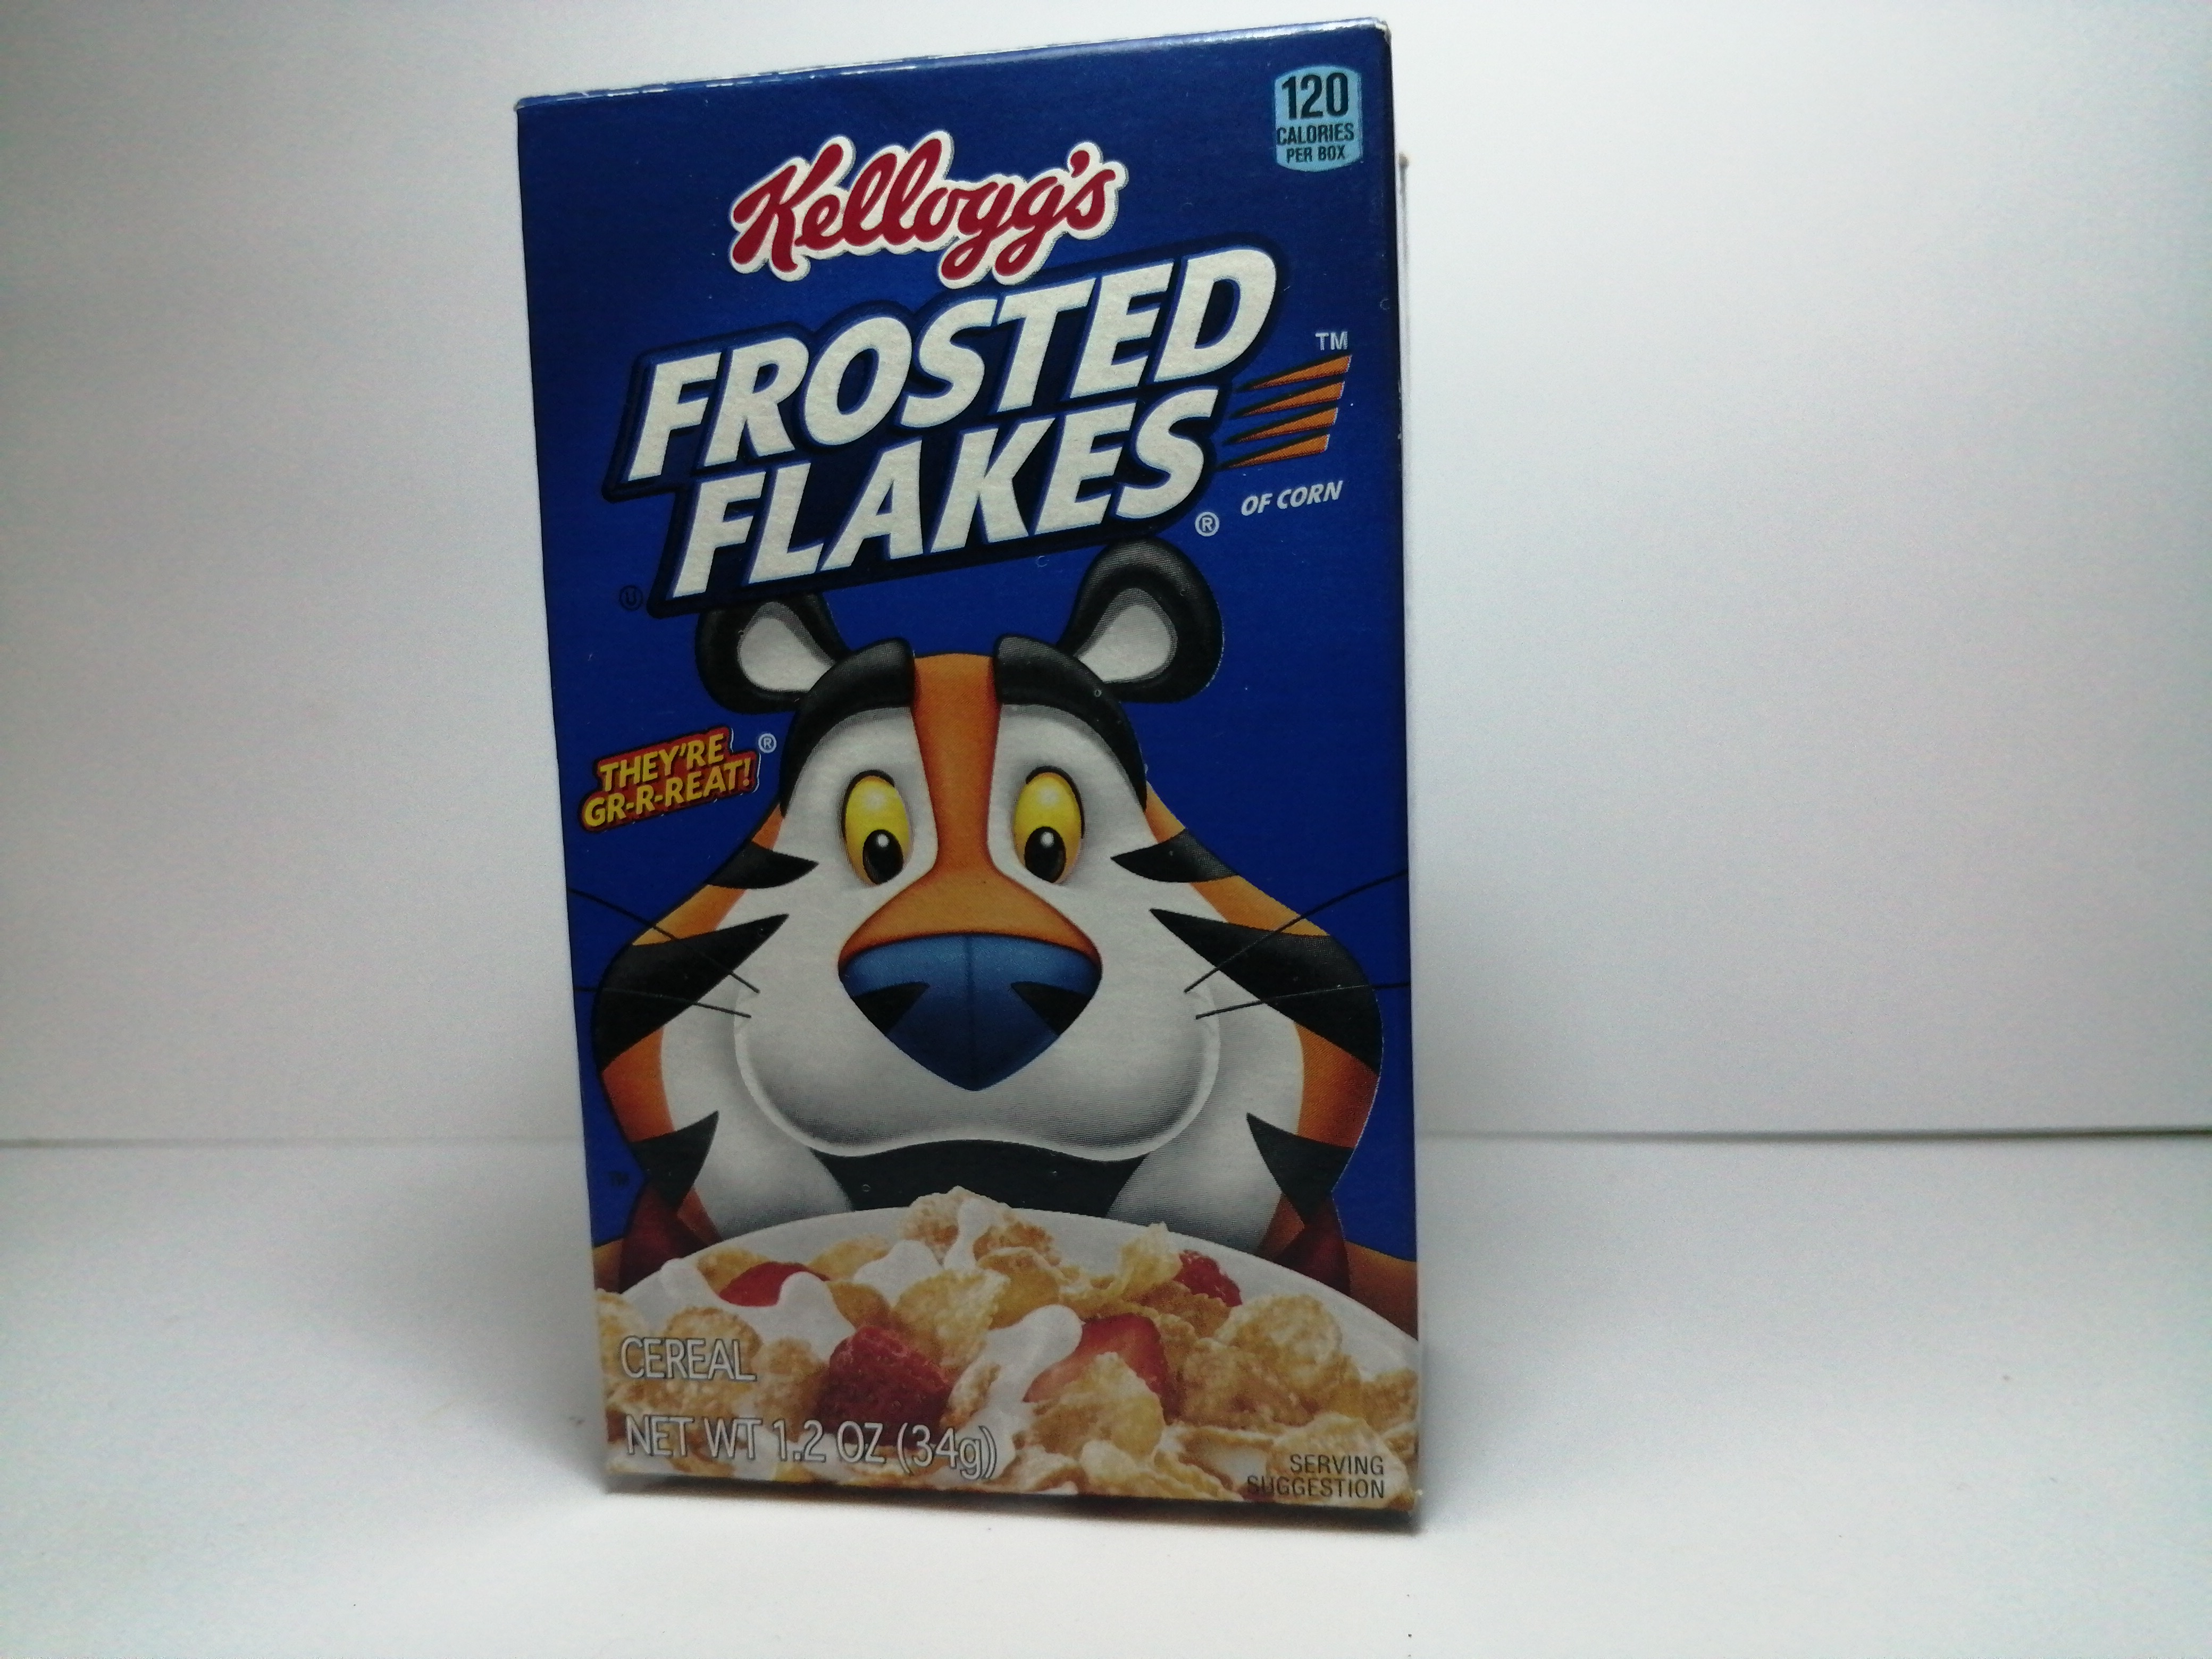cereal azucarado: (502, 0, 1489, 1542)
